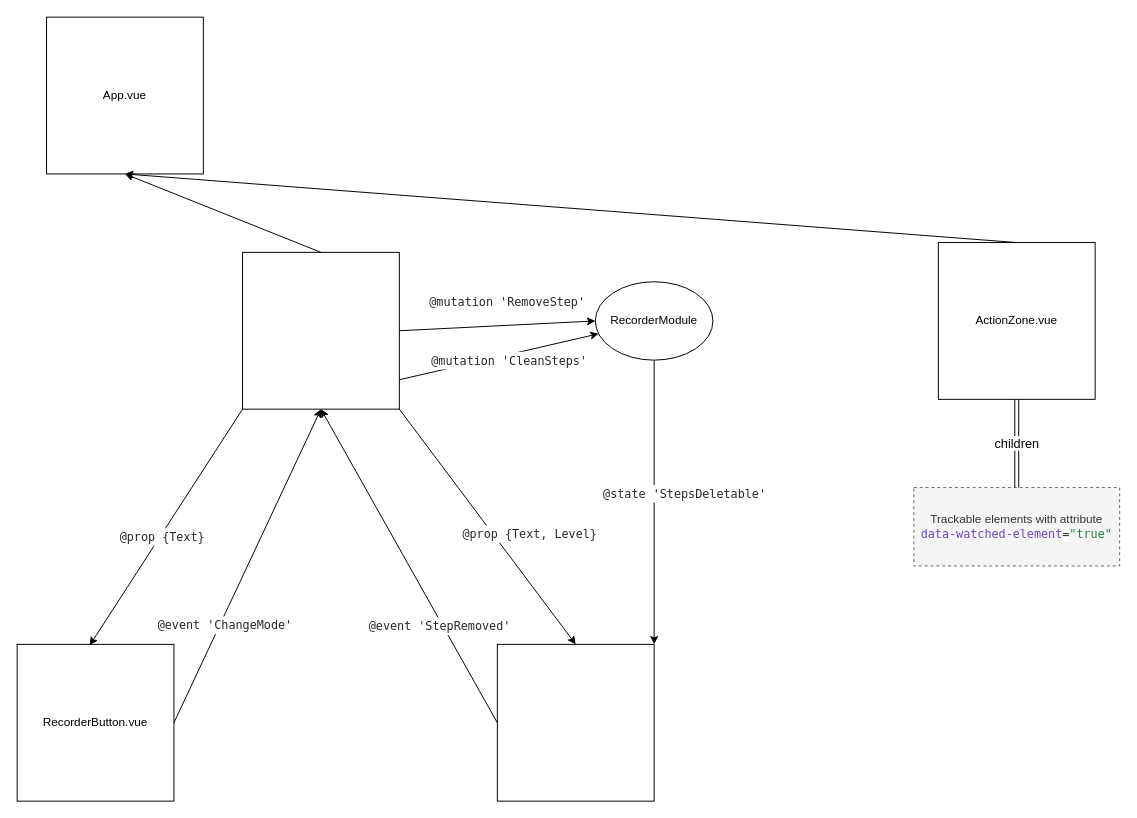
Some shapes in this 1137 by 818 pixel diagram are drawn without their labels. The centre of each missing label's shape, as x and y in pixels:
"SideBar.vue" belongs at point 320,330.
"Step.vue" belongs at point 575,722.
